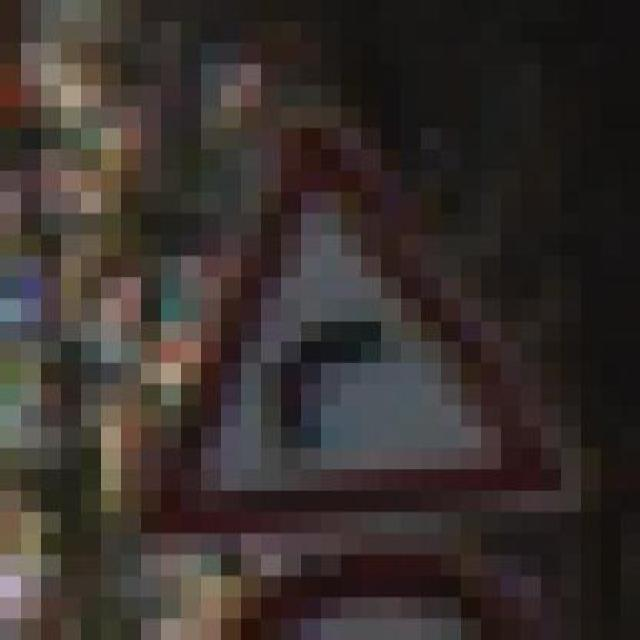Dangerous Rright Curve Ahead: (120, 107, 580, 555)
